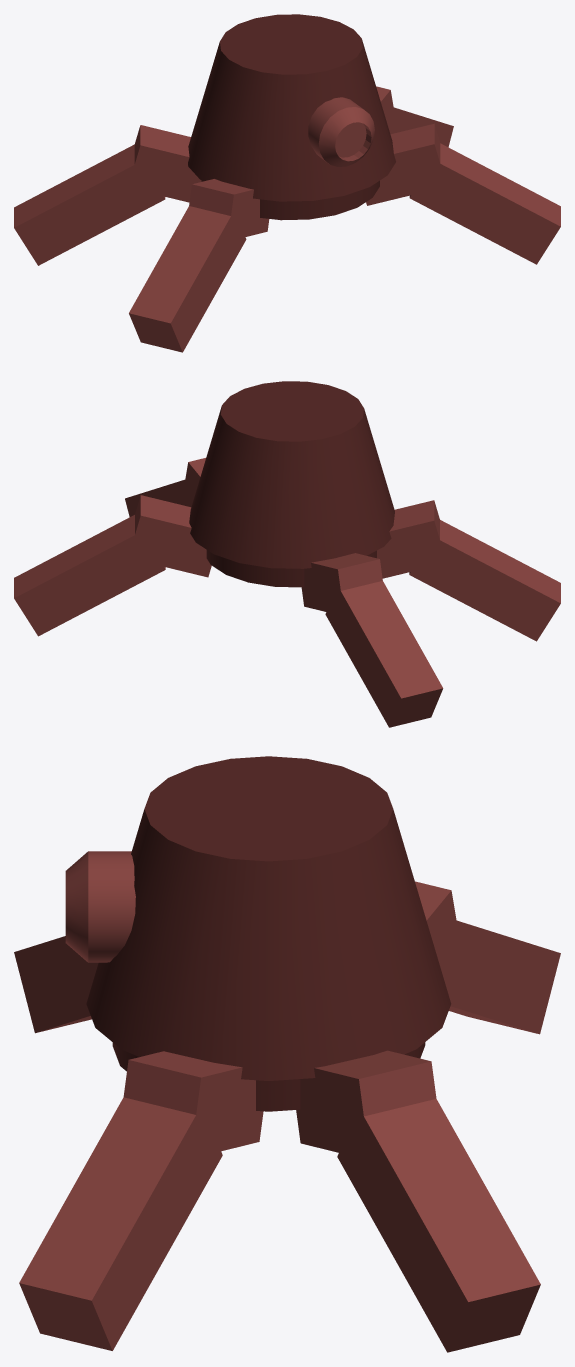
Rendered from RangedEnemy.fbx.
3 views of the same model, one above another, from view 1: azimuth 30°, elevation 25°; view 2: azimuth 150°, elevation 25°; view 3: azimuth 270°, elevation 25° (orthographic). The views are drawn at different scales.
Parts seen in each view (by area): view 1: pCylinder1, pCube8, pCube2, pasted__pCube2, pasted__pCube1, pCylinder4, pCube1, pCube7, pCylinder3, pasted__pCube4; view 2: pCylinder1, pasted__pCube2, pCube8, pasted__pCube4, pasted__pCube3, pCube7, pasted__pCube1, pCylinder3, pCube2, pCube1; view 3: pCylinder1, pasted__pCube4, pCube2, pasted__pCube2, pasted__pCube3, pCube1, pCylinder4, pCube8, pasted__pCube1, pCylinder3.
Part boxes in pixels (bbox=[...]): pCylinder1: bbox=[188, 14, 395, 201]; pCube8: bbox=[129, 206, 246, 352]; pCube2: bbox=[409, 143, 560, 264]; pasted__pCube2: bbox=[14, 144, 165, 265]; pasted__pCube1: bbox=[128, 125, 201, 202]; pCylinder4: bbox=[308, 97, 374, 166]; pCube1: bbox=[366, 123, 440, 205]; pCube7: bbox=[189, 179, 269, 241]; pCylinder3: bbox=[201, 180, 379, 220]; pasted__pCube4: bbox=[386, 106, 453, 147]; pCylinder1: bbox=[189, 381, 394, 568]; pasted__pCube2: bbox=[325, 581, 443, 727]; pCube8: bbox=[409, 520, 560, 641]; pasted__pCube4: bbox=[14, 515, 165, 636]; pasted__pCube3: bbox=[128, 495, 211, 577]; pCube7: bbox=[377, 500, 439, 578]; pasted__pCube1: bbox=[301, 553, 382, 611]; pCylinder3: bbox=[206, 550, 376, 587]; pCube2: bbox=[125, 478, 193, 516]; pCube1: bbox=[183, 458, 205, 505]; pCylinder1: bbox=[86, 756, 451, 1080]; pasted__pCube4: bbox=[337, 1099, 540, 1352]; pCube2: bbox=[19, 1097, 222, 1350]; pasted__pCube2: bbox=[439, 920, 560, 1034]; pasted__pCube3: bbox=[296, 1050, 436, 1152]; pCube1: bbox=[123, 1051, 263, 1153]; pCylinder4: bbox=[65, 851, 135, 962]; pCube8: bbox=[14, 936, 98, 1033]; pasted__pCube1: bbox=[415, 881, 459, 962]; pCylinder3: bbox=[112, 1042, 425, 1111].
Size of the model in its own units: 129 by 61.18 by 81.26.
